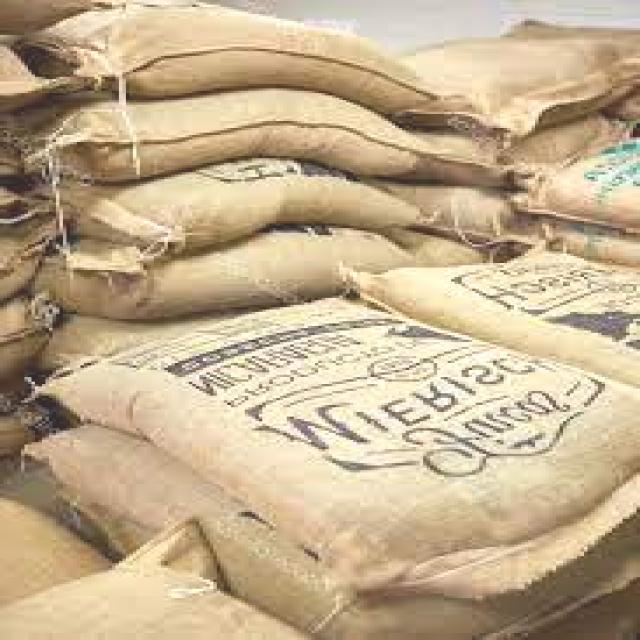gunny_bag: (52, 296, 633, 594), (18, 422, 640, 640), (341, 250, 640, 406), (6, 218, 412, 320), (28, 91, 426, 185), (39, 2, 434, 96), (370, 15, 640, 136), (91, 160, 430, 252), (506, 141, 640, 233)
